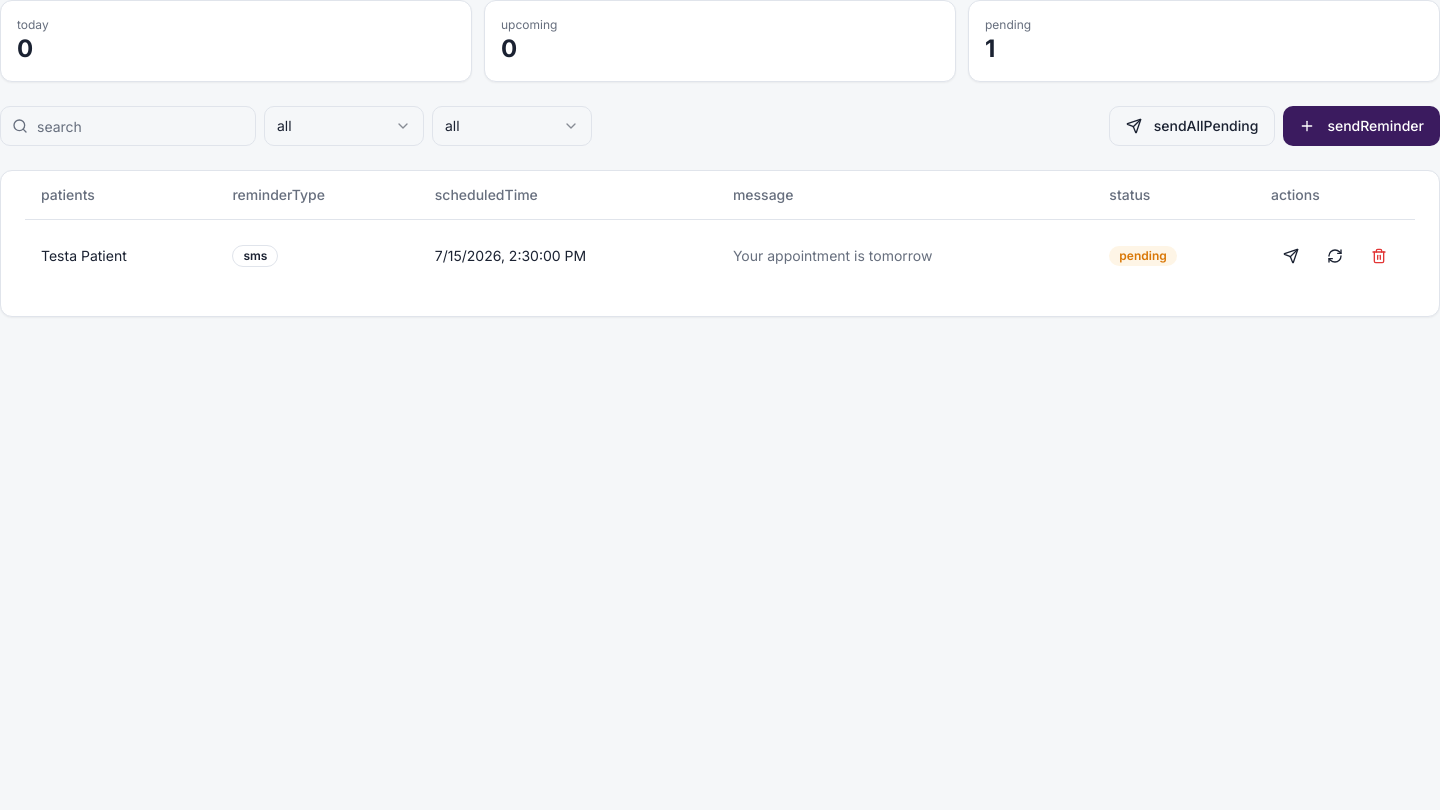
it: reschedule dialog › opens the app's own dialog and never reaches for the browser box
Click the button named "Reschedule": (1335, 256) left=1315, top=236, right=1355, bottom=276
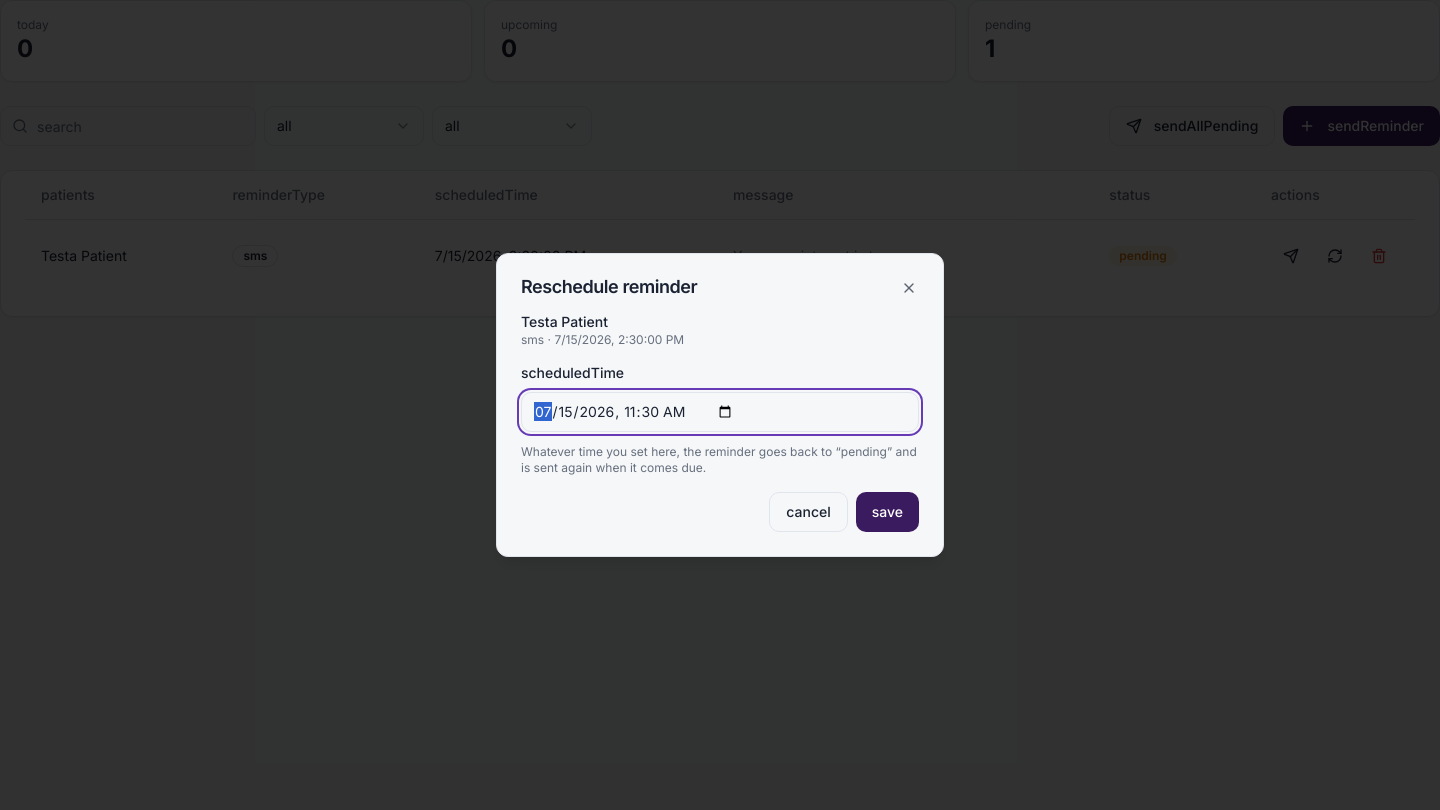
Check: the dialog is shown, box left=496, top=253, right=944, bottom=557
Check: the heading "Reschedule reminder" is shown, box left=521, top=276, right=697, bottom=297
Check: the dialog shows "Testa Patient", box left=521, top=313, right=608, bottom=330
